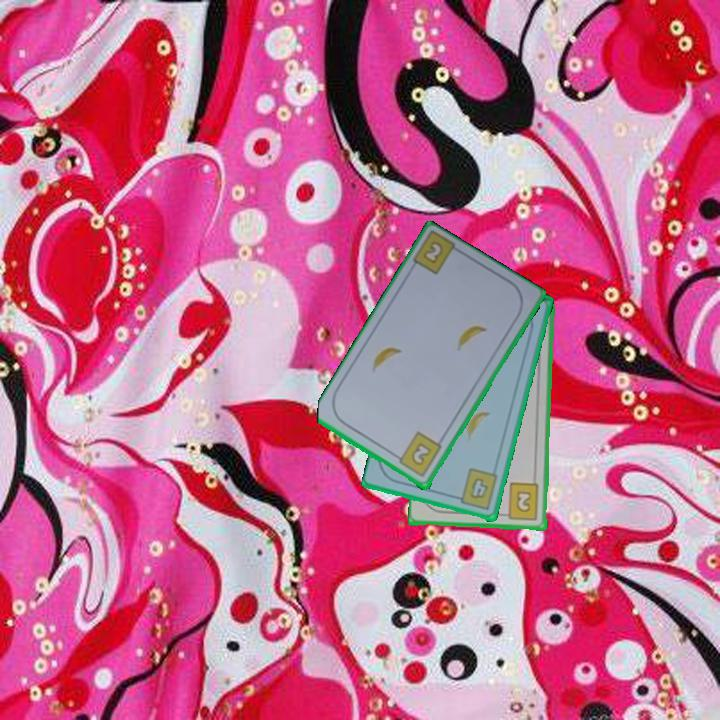2b: (391, 429, 445, 480), (499, 480, 542, 523), (422, 240, 444, 264)
4b: (451, 466, 501, 513)
